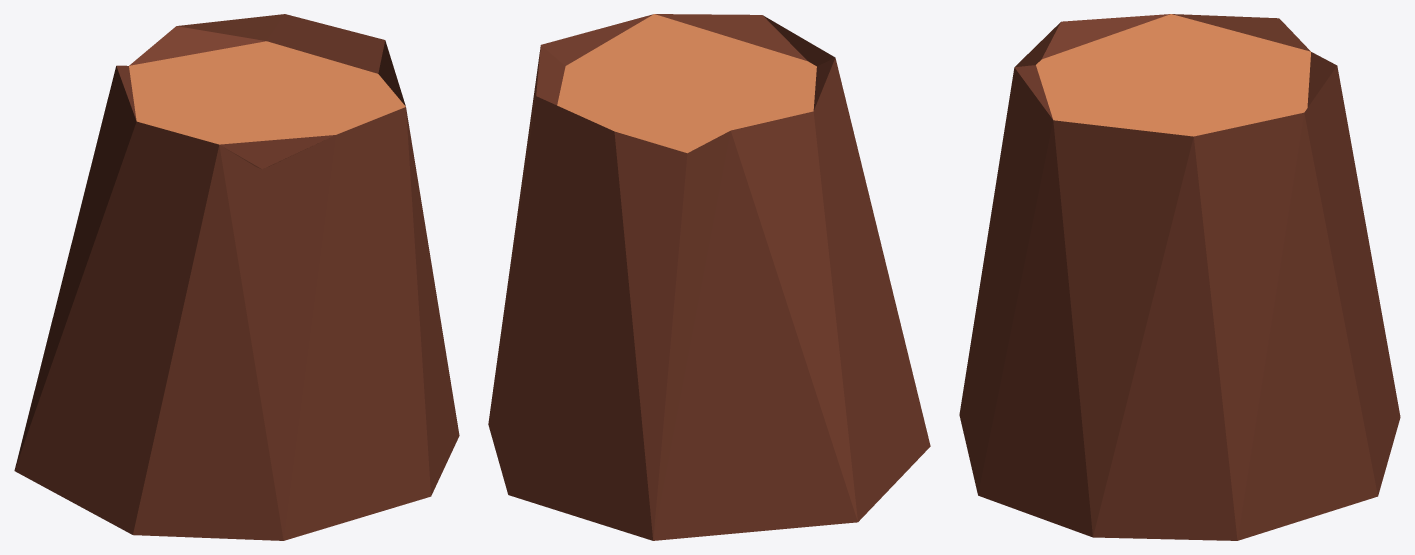
File: pine_trunk_type_3_LOD2.fbx
The picture shows the model from 3 angles, left to right: view 1: azimuth 30°, elevation 25°; view 2: azimuth 150°, elevation 25°; view 3: azimuth 270°, elevation 25°; orthographic projection. The views are drawn at different scales.
Parts seen in each view (by area): view 1: pt_type_3; view 2: pt_type_3; view 3: pt_type_3.
Part boxes in pixels (box(x1,y1,x2,y2)): pt_type_3: box(14, 14, 459, 540); pt_type_3: box(488, 14, 930, 540); pt_type_3: box(959, 14, 1400, 540).
Size of the model in its own units: 199 by 188 by 193.
